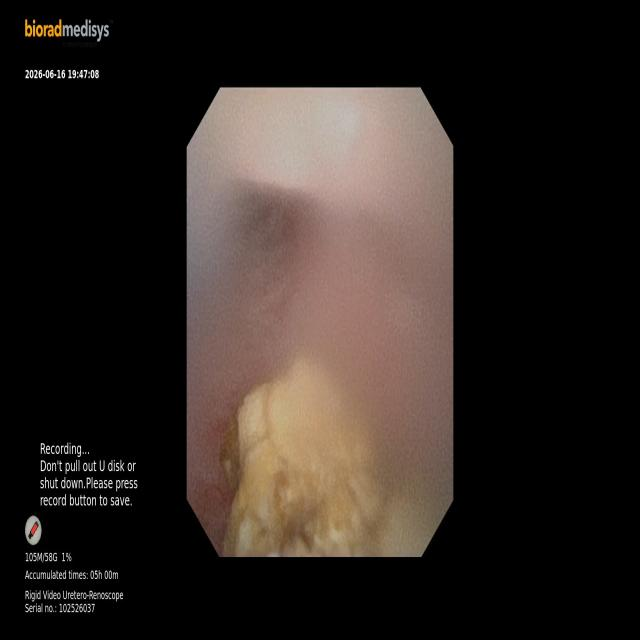stone-new: (220, 357, 384, 556)
